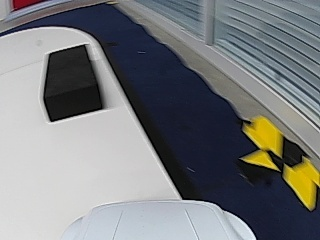block: (41, 46, 102, 122)
